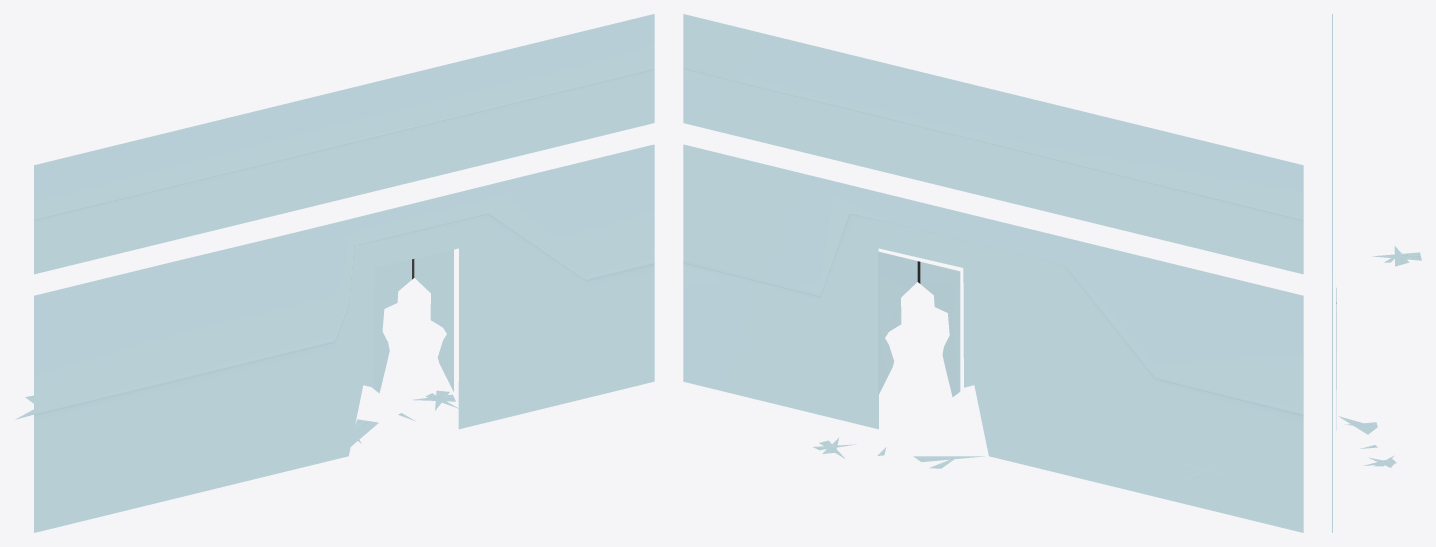
Rendered from alternative_glass.glb.
3 renders of one model, left to right at view 1: azimuth 30°, elevation 25°; view 2: azimuth 150°, elevation 25°; view 3: azimuth 270°, elevation 25°, orthographic. The views are drawn at different scales.
Visible parts, largest first — view 1: BrokenWindow, DoorOutside; view 2: BrokenWindow, DoorOutside; view 3: BrokenWindow, DoorOutside.
Boxes of the visible parts, <box> form: BrokenWindow: <box>15,14,654,532</box>; DoorOutside: <box>372,249,453,393</box>; BrokenWindow: <box>683,14,1303,532</box>; DoorOutside: <box>878,251,960,396</box>; BrokenWindow: <box>1332,14,1421,532</box>; DoorOutside: <box>1336,287,1336,430</box>.
Size of the model in its own units: 10.97 by 6.21 by 1.78.
Materials: 2 (1 with a texture image).
